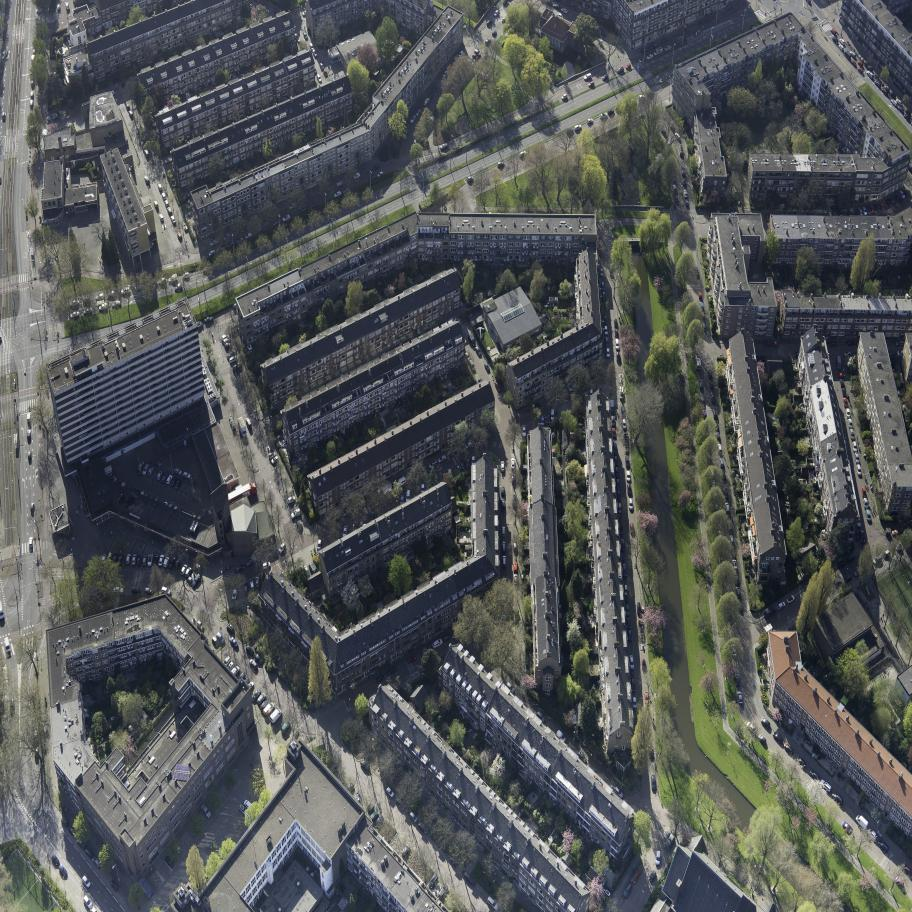large-vehicle: (224, 480, 261, 509)
small-vehicle: (852, 812, 871, 831), (267, 706, 284, 725), (237, 416, 249, 439), (462, 871, 478, 887), (875, 838, 891, 854), (761, 604, 778, 619), (261, 701, 276, 717), (485, 896, 500, 912), (829, 791, 845, 806), (770, 730, 785, 745), (81, 894, 95, 910), (575, 749, 589, 765), (436, 884, 449, 901), (394, 797, 408, 812), (416, 821, 430, 836), (554, 729, 568, 744), (611, 785, 626, 799), (781, 741, 796, 755), (818, 779, 833, 793), (840, 819, 854, 834), (200, 804, 213, 820), (427, 873, 439, 890), (622, 882, 634, 899), (288, 508, 303, 521), (250, 688, 263, 703), (359, 758, 372, 773), (190, 573, 203, 588), (280, 719, 292, 735), (255, 691, 268, 705), (228, 664, 241, 678), (242, 798, 255, 812), (807, 768, 821, 781), (214, 631, 227, 645), (163, 855, 176, 869), (244, 556, 259, 568), (108, 878, 120, 893), (630, 869, 641, 885), (224, 622, 237, 635), (75, 837, 88, 850), (384, 786, 397, 799), (407, 811, 420, 824), (759, 716, 772, 729), (893, 875, 906, 888), (57, 864, 69, 878), (431, 638, 445, 650), (90, 855, 102, 869), (394, 476, 408, 488), (368, 809, 380, 823), (307, 560, 318, 575), (167, 554, 177, 570), (258, 699, 270, 712), (247, 658, 259, 671), (253, 653, 265, 666), (504, 681, 516, 694), (535, 711, 547, 724), (652, 45, 665, 57), (745, 721, 758, 733), (871, 554, 884, 566), (795, 755, 807, 768), (866, 827, 878, 840), (81, 875, 92, 889), (50, 853, 61, 867), (400, 843, 411, 857), (467, 333, 477, 348), (83, 847, 95, 859), (237, 804, 249, 816), (601, 887, 613, 899), (374, 673, 387, 684), (222, 655, 233, 668), (467, 359, 477, 373), (67, 825, 78, 837), (231, 483, 243, 494), (245, 645, 256, 657), (374, 815, 385, 827), (406, 654, 418, 665), (757, 734, 768, 746), (842, 49, 853, 61), (845, 553, 857, 564), (210, 636, 221, 648), (172, 843, 183, 855), (285, 495, 298, 505), (229, 636, 239, 649), (385, 667, 398, 677), (179, 563, 189, 576), (160, 586, 173, 596), (785, 594, 796, 605), (843, 573, 854, 584), (277, 542, 287, 554), (261, 561, 273, 571), (427, 459, 439, 469), (235, 563, 247, 573), (420, 645, 432, 655), (648, 870, 658, 882), (203, 315, 215, 325), (167, 273, 179, 283), (474, 345, 483, 358), (174, 478, 183, 491), (184, 566, 193, 579), (4, 637, 11, 653), (303, 565, 311, 579), (60, 817, 70, 828), (245, 680, 255, 691), (442, 632, 453, 642), (345, 783, 355, 794), (463, 440, 474, 450), (865, 69, 875, 80), (880, 86, 890, 97), (889, 97, 899, 108), (231, 301, 242, 311), (896, 104, 906, 115), (902, 112, 912, 123), (837, 559, 848, 569), (881, 549, 892, 559), (195, 620, 205, 631), (231, 363, 243, 372), (208, 238, 220, 247), (494, 380, 502, 393), (270, 455, 280, 465), (241, 677, 251, 687), (567, 382, 577, 392), (873, 79, 883, 89), (888, 90, 898, 100), (853, 567, 863, 577), (228, 355, 239, 364), (270, 408, 281, 417), (267, 451, 278, 460), (237, 672, 246, 683), (436, 454, 447, 463), (582, 72, 593, 81), (615, 66, 626, 75), (136, 460, 145, 471), (222, 232, 233, 241), (245, 417, 253, 429), (110, 300, 122, 308), (109, 475, 117, 487), (142, 463, 150, 475), (160, 472, 168, 484), (162, 556, 170, 568), (849, 428, 856, 441), (695, 357, 702, 370), (865, 509, 872, 522), (152, 554, 159, 567), (473, 48, 483, 57), (473, 435, 483, 444), (573, 123, 583, 132), (627, 98, 637, 107), (655, 851, 661, 866), (776, 601, 786, 610), (831, 35, 840, 45), (895, 97, 904, 107), (849, 58, 858, 68), (802, 583, 812, 592), (834, 580, 844, 589), (173, 468, 183, 477), (153, 459, 163, 468), (222, 336, 232, 345), (194, 320, 204, 329), (220, 333, 230, 342), (182, 471, 192, 480), (69, 311, 80, 319), (307, 202, 318, 210), (252, 227, 263, 235), (483, 362, 491, 373), (165, 474, 173, 485), (163, 156, 174, 164), (120, 287, 131, 295), (737, 691, 743, 705), (859, 530, 865, 544), (147, 553, 153, 567), (560, 6, 569, 15), (856, 59, 865, 68), (856, 66, 865, 75), (849, 50, 858, 59), (439, 143, 449, 151), (51, 113, 61, 121), (98, 303, 108, 311), (95, 293, 105, 301), (107, 291, 117, 299), (226, 351, 236, 359), (281, 214, 291, 222), (878, 201, 886, 211), (298, 206, 308, 214), (226, 240, 236, 248), (287, 202, 297, 210), (342, 509, 352, 517), (352, 172, 362, 180), (367, 174, 377, 182), (341, 186, 351, 194), (518, 150, 528, 158), (554, 12, 564, 20), (477, 377, 485, 387), (531, 403, 541, 411), (599, 112, 609, 120), (645, 89, 655, 97), (674, 131, 682, 141), (663, 44, 673, 52), (614, 105, 624, 113), (895, 193, 903, 203), (144, 587, 154, 595), (171, 505, 179, 515), (161, 501, 169, 511), (342, 525, 348, 538), (732, 559, 738, 572), (735, 674, 741, 687), (158, 554, 164, 567), (82, 308, 93, 315), (862, 498, 869, 509), (156, 470, 163, 481), (170, 476, 177, 487), (167, 501, 174, 512), (10, 699, 15, 714), (610, 400, 615, 415), (619, 386, 624, 401), (629, 655, 634, 670), (651, 775, 656, 790), (637, 602, 642, 617), (101, 553, 107, 565), (259, 0, 268, 8), (333, 190, 342, 198), (409, 115, 417, 124), (426, 115, 435, 123), (235, 236, 244, 244), (372, 163, 381, 171), (484, 37, 492, 46), (471, 53, 480, 61), (468, 56, 477, 64), (513, 574, 519, 586), (637, 93, 646, 101), (466, 175, 475, 183), (496, 160, 505, 168), (586, 117, 595, 125), (601, 74, 610, 82), (646, 53, 655, 61), (649, 42, 658, 50), (659, 127, 667, 136), (669, 124, 677, 133), (874, 203, 882, 212), (710, 392, 716, 404), (727, 520, 733, 532), (830, 27, 838, 36), (838, 37, 846, 46), (224, 342, 233, 350), (112, 552, 118, 564), (856, 464, 862, 476), (885, 198, 893, 207), (888, 195, 896, 204), (712, 408, 718, 420), (142, 555, 148, 567), (207, 249, 216, 257), (442, 69, 449, 79), (464, 352, 471, 362), (641, 658, 646, 672), (644, 691, 649, 705), (731, 643, 736, 657), (147, 466, 154, 476), (174, 559, 181, 569), (131, 587, 141, 594), (176, 507, 183, 517), (152, 497, 159, 507), (166, 206, 173, 216), (176, 231, 183, 241), (157, 277, 167, 284), (173, 284, 183, 291), (107, 552, 113, 563), (316, 73, 322, 84), (700, 396, 706, 407), (720, 469, 726, 480), (845, 408, 851, 419), (843, 397, 849, 408), (847, 418, 853, 429), (861, 487, 867, 498), (136, 555, 142, 566), (406, 489, 411, 502), (625, 455, 630, 468), (628, 498, 633, 511), (631, 679, 636, 692), (632, 696, 637, 709), (836, 356, 841, 369), (620, 538, 625, 551), (622, 564, 627, 577), (415, 109, 423, 117), (560, 93, 568, 101), (624, 63, 632, 71), (883, 84, 891, 92), (698, 19, 706, 27), (837, 43, 845, 51), (272, 8, 281, 15), (432, 84, 439, 93), (272, 219, 281, 226), (244, 232, 253, 239), (493, 9, 500, 18), (486, 18, 493, 27), (552, 3, 561, 10), (606, 108, 615, 115), (587, 81, 596, 88), (899, 190, 906, 199), (170, 215, 177, 224), (134, 284, 143, 291), (181, 272, 190, 279), (119, 482, 126, 491), (317, 539, 322, 551), (616, 351, 621, 363), (626, 470, 631, 482), (627, 483, 632, 495), (723, 488, 728, 500), (725, 502, 730, 514), (738, 601, 743, 613), (839, 378, 845, 388), (852, 441, 857, 453), (856, 516, 861, 528), (855, 452, 860, 464), (862, 206, 868, 216), (630, 523, 635, 535), (144, 175, 150, 185), (131, 554, 136, 566), (301, 9, 309, 16), (427, 92, 434, 100), (641, 46, 649, 53), (661, 37, 669, 44), (704, 17, 712, 24), (114, 480, 121, 488), (711, 13, 719, 20), (683, 27, 691, 34), (28, 537, 33, 548), (34, 747, 39, 758), (232, 589, 237, 600), (616, 479, 621, 490), (400, 495, 405, 506), (370, 511, 375, 522), (540, 416, 545, 427), (513, 562, 518, 573), (500, 461, 505, 472), (511, 458, 516, 469), (502, 556, 507, 567), (611, 416, 616, 427), (625, 605, 630, 616), (714, 420, 719, 431), (717, 443, 722, 454), (729, 535, 734, 546), (736, 587, 741, 598), (118, 553, 123, 564), (70, 300, 79, 306), (82, 297, 91, 303), (312, 49, 318, 58), (322, 69, 328, 78), (312, 66, 318, 75), (140, 140, 146, 149), (376, 171, 385, 177), (501, 15, 507, 24), (458, 50, 464, 59), (857, 207, 863, 216), (828, 341, 837, 347), (846, 340, 855, 346), (847, 209, 853, 218), (128, 110, 134, 119), (144, 148, 150, 157), (866, 205, 872, 214), (125, 485, 131, 494), (191, 514, 197, 523), (114, 587, 123, 593), (196, 515, 202, 524), (148, 495, 154, 504), (157, 183, 163, 192), (153, 200, 159, 209), (164, 199, 170, 208), (135, 488, 141, 497), (139, 491, 145, 500), (512, 494, 516, 507), (513, 540, 517, 553), (649, 745, 653, 758), (255, 577, 260, 587), (460, 460, 465, 470), (589, 388, 594, 398), (708, 369, 713, 379), (709, 380, 714, 390), (702, 409, 707, 419), (731, 549, 736, 559), (842, 388, 847, 398), (126, 554, 131, 564), (491, 30, 498, 37), (460, 22, 467, 29), (895, 544, 902, 551), (36, 7, 44, 13), (35, 729, 39, 741), (244, 583, 248, 595), (360, 517, 364, 529), (448, 469, 452, 481), (319, 62, 325, 70), (522, 425, 526, 437), (501, 498, 505, 510), (621, 406, 625, 418), (613, 443, 617, 455), (627, 617, 631, 629), (896, 340, 904, 346), (897, 350, 905, 356), (892, 530, 900, 536), (161, 192, 167, 200), (869, 205, 875, 213), (143, 493, 149, 501), (856, 340, 864, 346), (250, 581, 255, 590), (716, 432, 721, 441), (683, 189, 688, 198), (838, 370, 843, 379), (700, 310, 705, 319), (617, 490, 621, 501), (618, 503, 622, 514), (421, 484, 425, 495), (442, 472, 446, 483), (546, 413, 550, 424), (551, 409, 555, 420), (501, 487, 505, 498), (471, 455, 475, 466), (605, 337, 609, 348), (615, 339, 619, 350), (466, 458, 470, 469), (614, 456, 618, 467), (615, 467, 619, 478), (602, 291, 606, 302), (735, 575, 739, 586), (628, 630, 632, 641), (699, 379, 703, 390), (624, 585, 628, 596), (695, 266, 699, 277), (108, 90, 115, 96), (600, 30, 606, 37), (794, 351, 801, 357), (27, 413, 31, 423), (294, 33, 299, 41), (303, 32, 308, 40), (309, 43, 314, 51), (502, 526, 506, 536), (612, 428, 616, 438), (606, 348, 610, 358), (614, 319, 618, 329), (622, 419, 626, 429), (771, 342, 779, 347), (736, 196, 740, 206), (28, 450, 32, 460), (844, 351, 852, 356), (710, 467, 714, 477), (702, 322, 706, 332), (888, 351, 896, 356), (159, 214, 164, 222), (130, 487, 135, 495), (27, 430, 31, 439), (30, 503, 34, 512), (604, 326, 608, 335), (601, 282, 605, 291), (843, 440, 847, 449), (720, 458, 724, 467), (764, 341, 770, 347), (765, 213, 769, 222), (297, 39, 302, 46), (125, 103, 130, 110), (598, 248, 602, 256), (673, 185, 677, 193), (673, 175, 677, 183), (674, 194, 678, 202), (681, 168, 685, 176), (685, 199, 689, 207), (698, 291, 702, 299), (699, 302, 703, 310), (828, 212, 832, 220), (503, 542, 506, 552), (604, 315, 607, 325), (610, 267, 613, 277), (715, 502, 718, 512), (714, 490, 717, 500), (57, 2, 60, 11), (512, 475, 515, 484), (615, 329, 618, 338), (683, 177, 686, 186), (718, 531, 721, 540), (2, 112, 5, 120), (30, 100, 33, 108), (31, 91, 34, 99), (31, 79, 34, 87), (680, 149, 683, 157), (600, 268, 603, 276), (712, 481, 715, 489), (33, 48, 36, 55), (66, 2, 69, 9)
